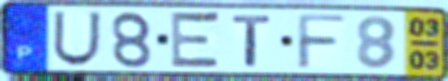8: (110, 10, 154, 69), (355, 14, 399, 71)
E: (168, 9, 223, 73)
F: (295, 12, 349, 72)
T: (230, 14, 275, 68)
U: (50, 10, 104, 68)
